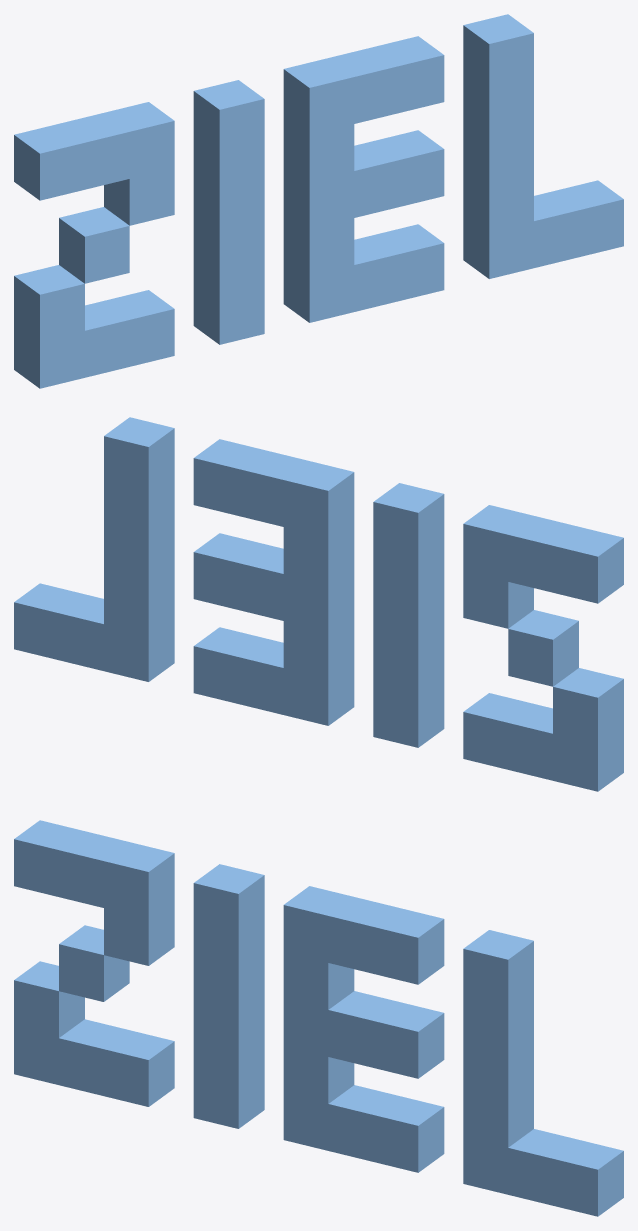
Rendered from finish.obj.
3 renders of one model, top to bottom at view 1: azimuth 30°, elevation 25°; view 2: azimuth 150°, elevation 25°; view 3: azimuth 330°, elevation 25°, orthographic.
Size of the model in its own units: 13 by 5 by 1.
Materials: 1 (1 with a texture image).
